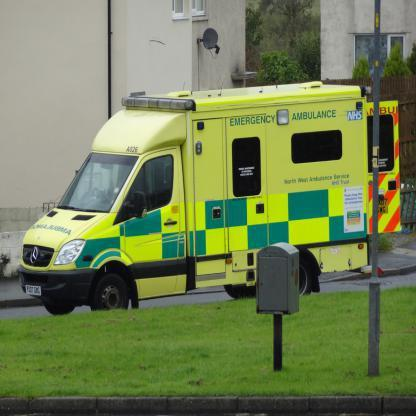Ambulance - v1 Ambulance last generate: (18, 80, 403, 314)
